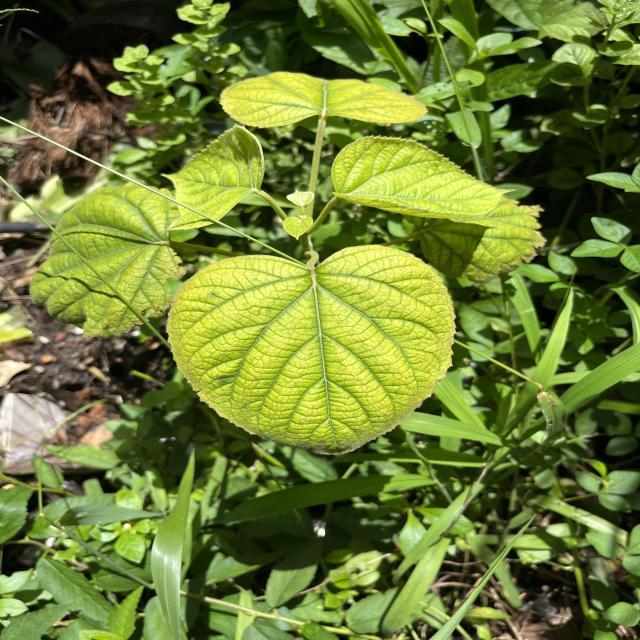Clerodendrum infortunatum: (164, 244, 458, 456), (28, 182, 188, 340), (329, 134, 518, 223), (217, 69, 430, 130), (158, 122, 268, 232)
